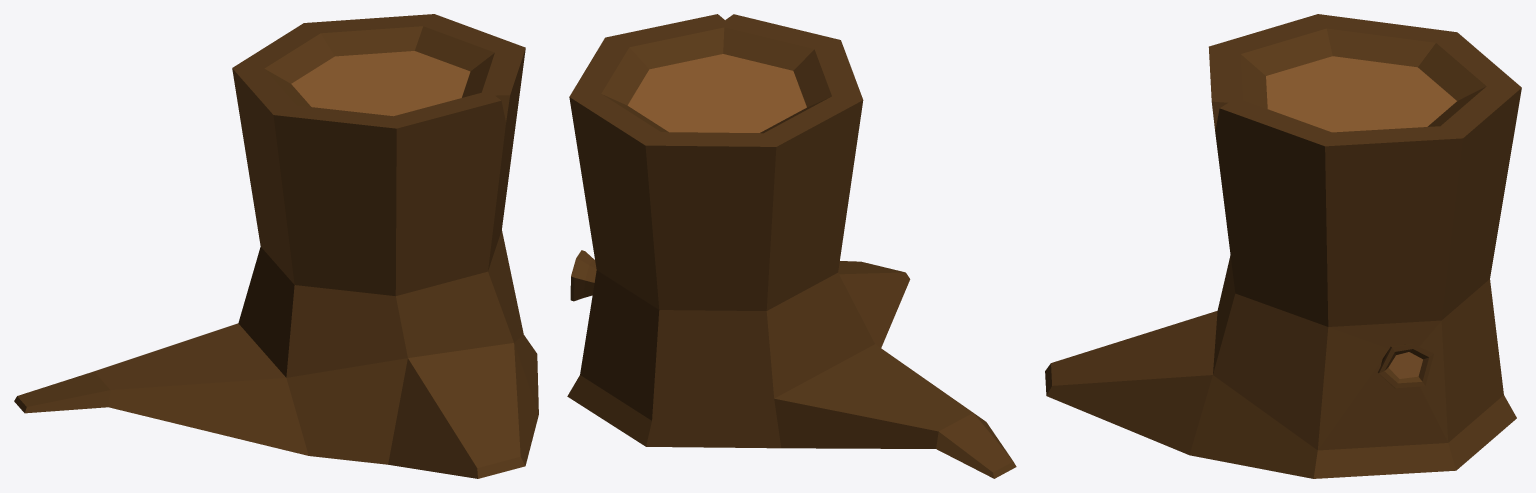
File: H_TreeTrunk.fbx
3 renders of one model, left to right at view 1: azimuth 30°, elevation 25°; view 2: azimuth 150°, elevation 25°; view 3: azimuth 270°, elevation 25°, orthographic. The views are drawn at different scales.
Parts seen in each view (by area): view 1: H_TreeTrunk; view 2: H_TreeTrunk; view 3: H_TreeTrunk.
Boxes of the visible parts, x1,y1,x2,y2 form: H_TreeTrunk: [14, 14, 538, 478]; H_TreeTrunk: [567, 14, 1016, 478]; H_TreeTrunk: [1045, 14, 1521, 478].
Size of the model in its own units: 82.54 by 55.23 by 67.9.
